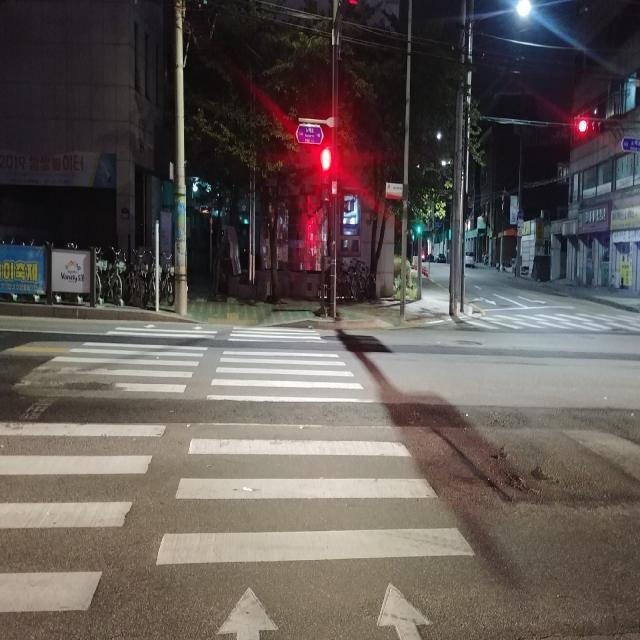빨간불: (322, 145, 332, 203)
횡단보도: (0, 323, 476, 640), (473, 311, 638, 331)
